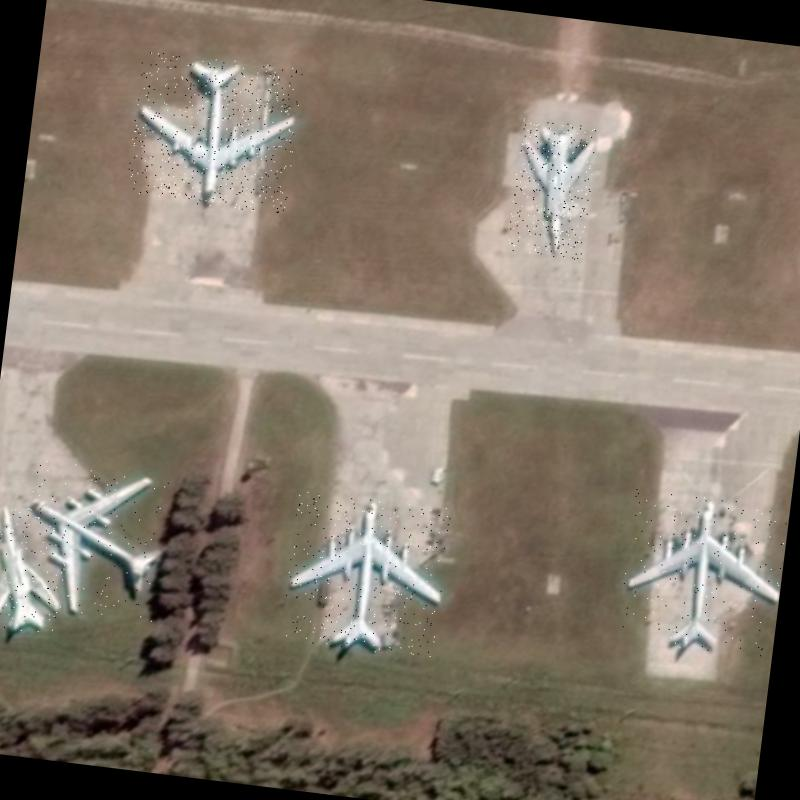A12: (506, 118, 598, 260), (0, 502, 72, 636)
A17: (616, 488, 789, 659), (125, 49, 303, 215), (280, 488, 451, 659), (15, 459, 171, 622)
